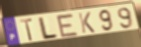9: (117, 7, 135, 29), (98, 9, 115, 32)
E: (55, 13, 80, 39)
K: (77, 11, 96, 34)
L: (38, 16, 59, 41)
T: (19, 18, 34, 43)
